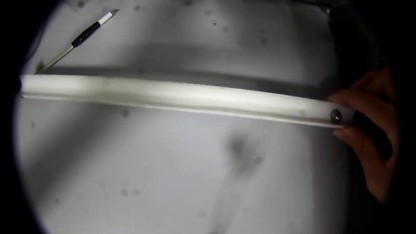gangzhu: (328, 108, 343, 123)
